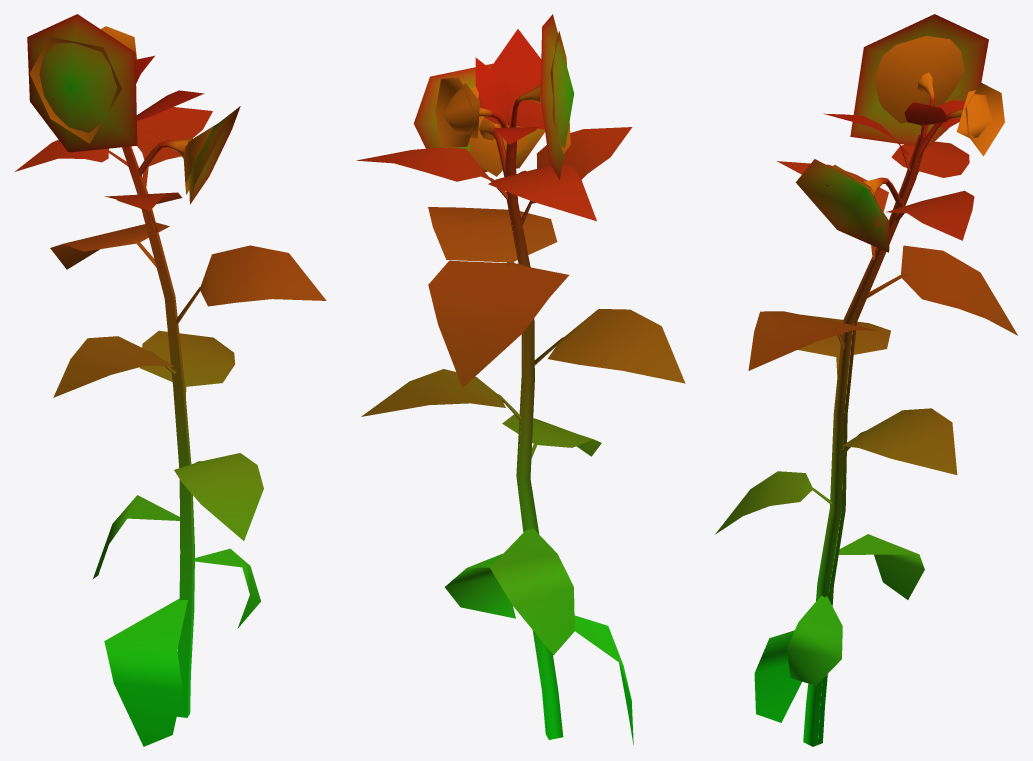
Rendered from Sunflower_LOD2_Var4.fbx.
3 renders of one model, left to right at view 1: azimuth 30°, elevation 25°; view 2: azimuth 150°, elevation 25°; view 3: azimuth 270°, elevation 25°, orthographic. The views are drawn at different scales.
Visible parts, largest first — view 1: _564c_Var4_LOD2; view 2: _564c_Var4_LOD2; view 3: _564c_Var4_LOD2.
Part boxes in pixels (left/top/right/bottom): _564c_Var4_LOD2: left=15, top=14, right=326, bottom=746; _564c_Var4_LOD2: left=356, top=14, right=685, bottom=744; _564c_Var4_LOD2: left=715, top=14, right=1017, bottom=746.
Size of the model in its own units: 33.11 by 91.19 by 35.27.
